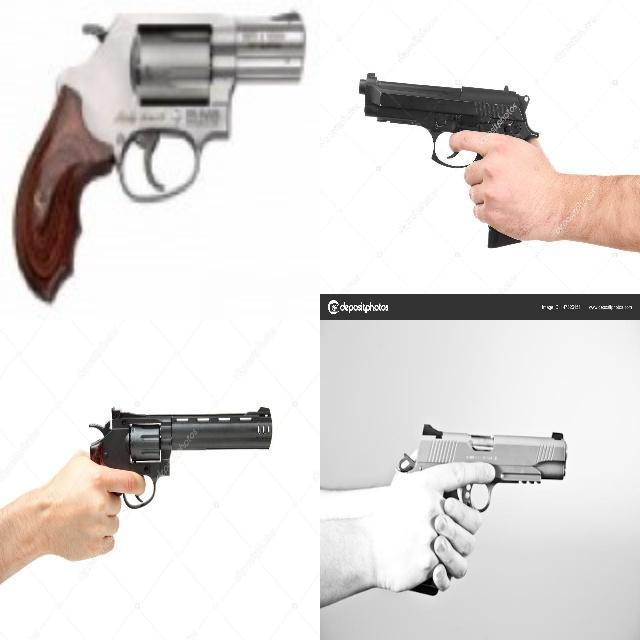gun-knife-thesis - v11 Yolov5 augmented: (13, 1, 301, 300), (396, 420, 573, 598), (355, 73, 532, 244), (84, 399, 273, 553)
